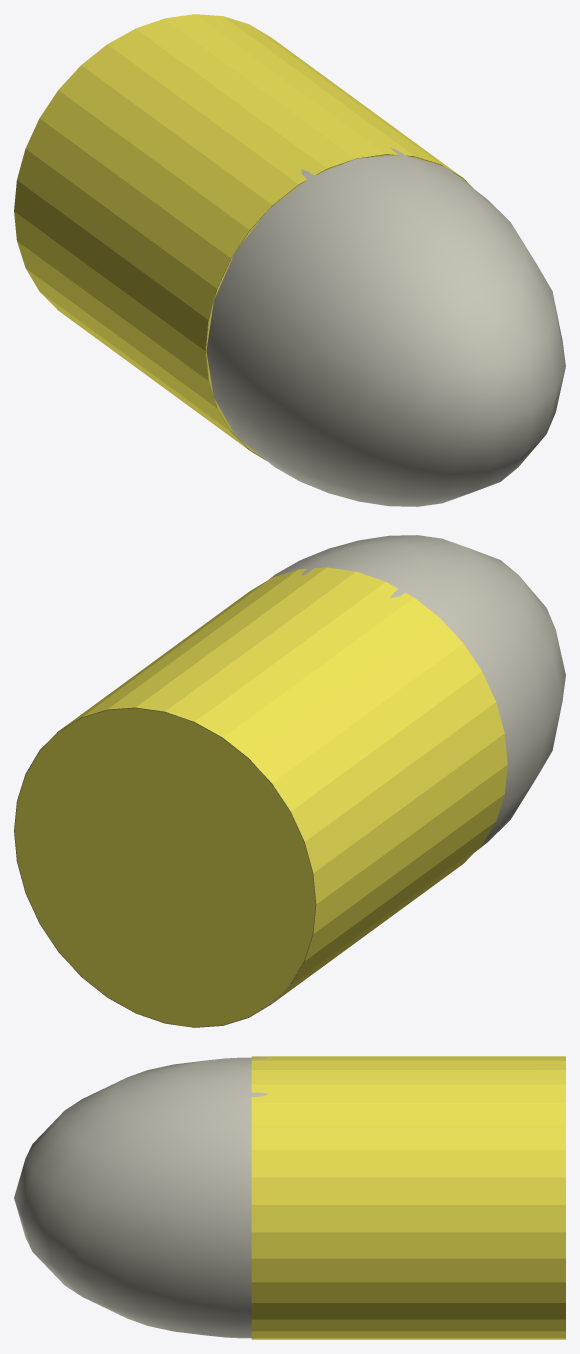
The model's file is bullet.obj.
The picture shows the model from 3 angles, top to bottom: view 1: azimuth 30°, elevation 25°; view 2: azimuth 150°, elevation 25°; view 3: azimuth 270°, elevation 25°; orthographic projection. The views are drawn at different scales.
Visible parts, largest first — view 1: 球; view 2: 球; view 3: 球.
Part boxes in pixels (x1=…): 球: x1=14, y1=14, x2=565, y2=506; 球: x1=14, y1=535, x2=565, y2=1027; 球: x1=14, y1=1056, x2=565, y2=1339.
Bounding box in the file's own units: 0.994 × 0.98 × 1.91.
1 material, 1 textured.
